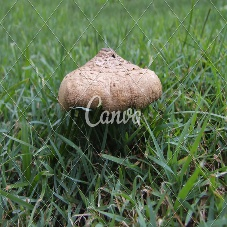mushroom: (58, 45, 162, 135)
